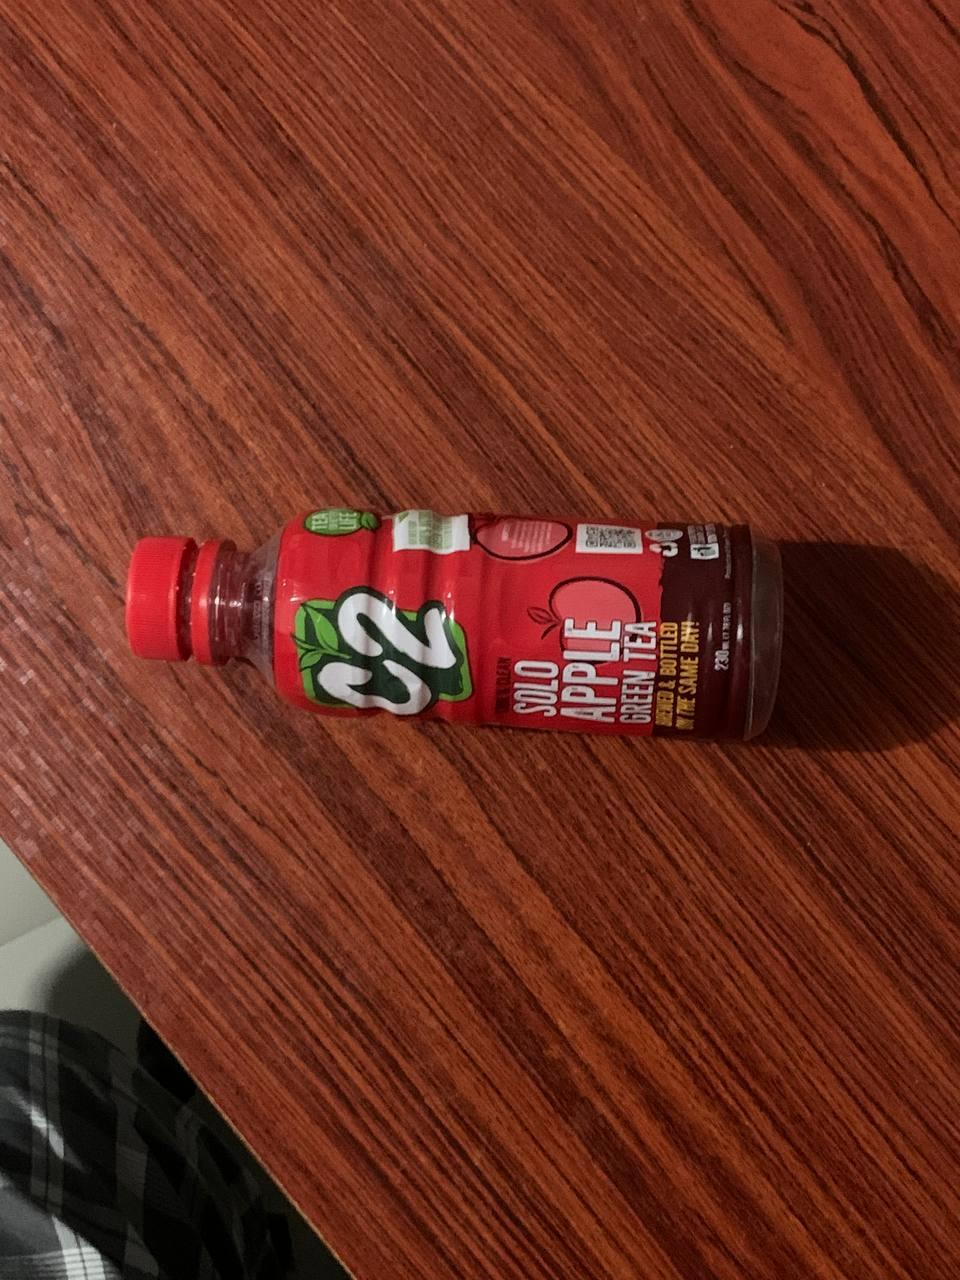plastic: (51, 430, 879, 833)
